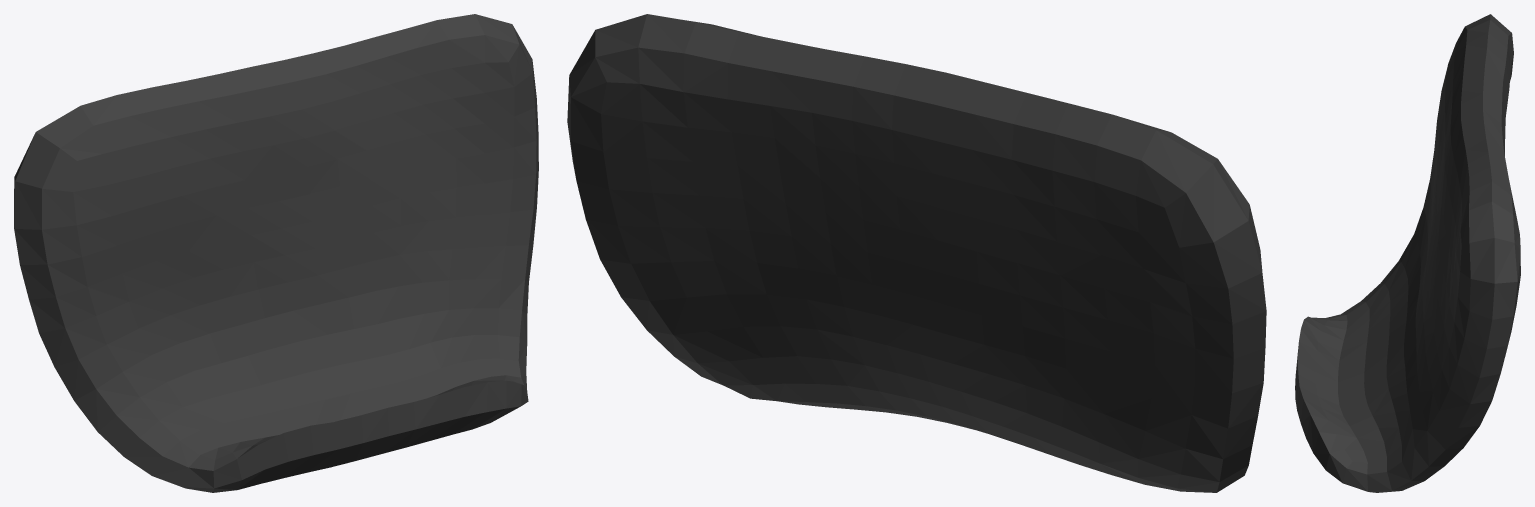
The model's file is Navic_bursa.glb.
3 views of the same model, side by side, from view 1: azimuth 30°, elevation 25°; view 2: azimuth 150°, elevation 25°; view 3: azimuth 270°, elevation 25° (orthographic). The views are drawn at different scales.
Parts seen in each view (by area): view 1: Navic_bursa; view 2: Navic_bursa; view 3: Navic_bursa.
Part boxes in pixels (box(x1,y1,x2,y2)): Navic_bursa: box(14, 14, 538, 492); Navic_bursa: box(567, 14, 1266, 492); Navic_bursa: box(1295, 14, 1520, 492).
Size of the model in its own units: 1.22 by 0.7499 by 0.49.
1 material, 1 textured.
